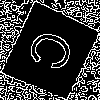C: (25, 26, 84, 78)
